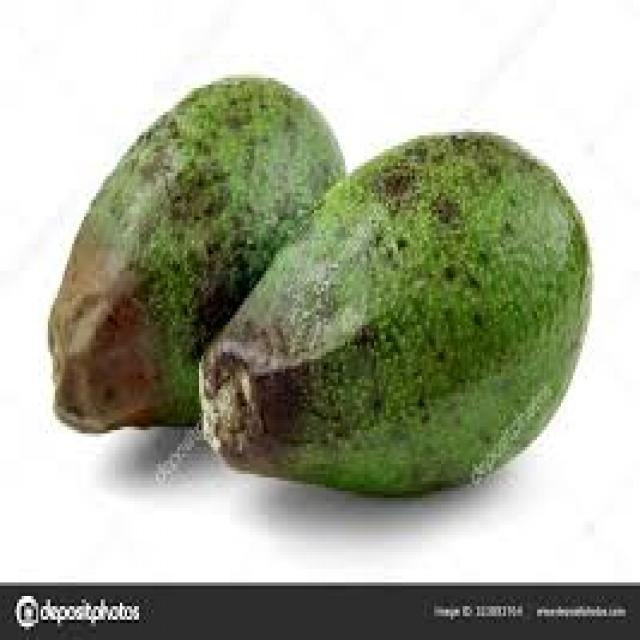organic waste: (196, 129, 590, 494), (46, 74, 340, 433)
